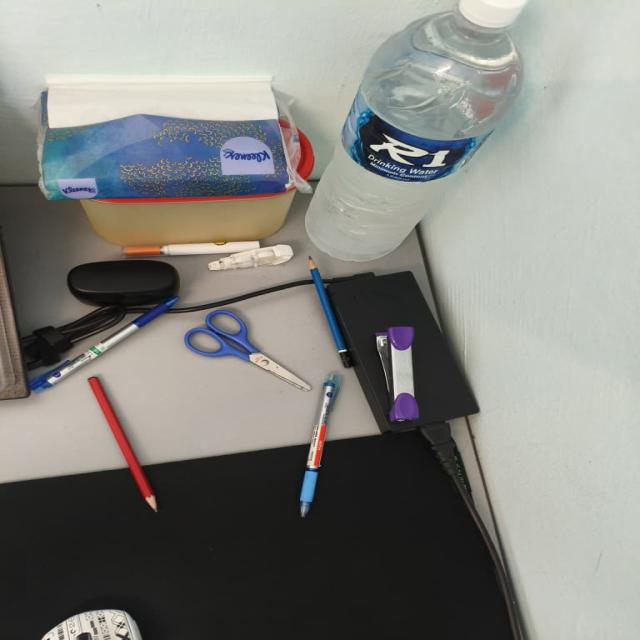pen: (30, 297, 178, 392), (299, 374, 341, 517)
pencil: (88, 376, 157, 511), (309, 256, 352, 368)
scissor: (185, 310, 309, 389)
stapler: (378, 326, 419, 421)
